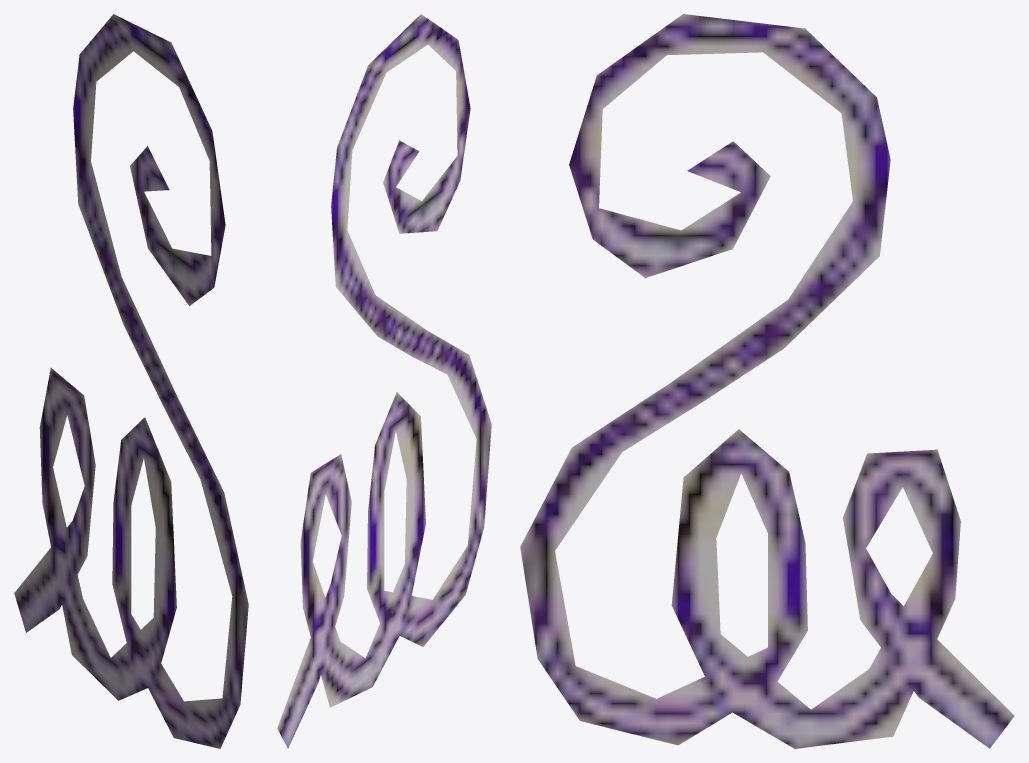
The picture shows the model from 3 angles, left to right: view 1: azimuth 30°, elevation 25°; view 2: azimuth 150°, elevation 25°; view 3: azimuth 270°, elevation 25°; orthographic projection. The views are drawn at different scales.
Parts seen in each view (by area): view 1: Picsart_22-01-21_15-37-57-171.002; view 2: Picsart_22-01-21_15-37-57-171.002; view 3: Picsart_22-01-21_15-37-57-171.002.
Boxes of the visible parts, <box> form: Picsart_22-01-21_15-37-57-171.002: <box>14,14,248,748</box>; Picsart_22-01-21_15-37-57-171.002: <box>277,14,491,748</box>; Picsart_22-01-21_15-37-57-171.002: <box>520,14,1014,748</box>.
Bounding box in the file's own units: 1.94e-07 × 1.71 × 1.04.
Materials: 1 (1 with a texture image).
